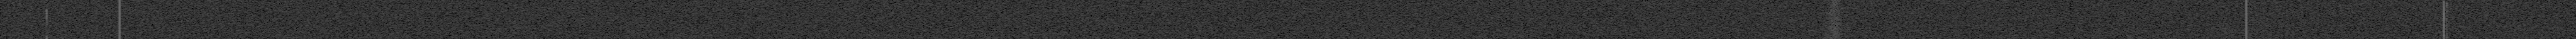wv_am: (2244, 0, 2249, 39), (118, 0, 122, 39)
wv_lsb: (2441, 0, 2446, 39), (44, 3, 48, 39), (46, 0, 48, 3)
wv_usb: (2445, 0, 2449, 39)
wv_wbfm: (1822, 0, 1850, 39)
